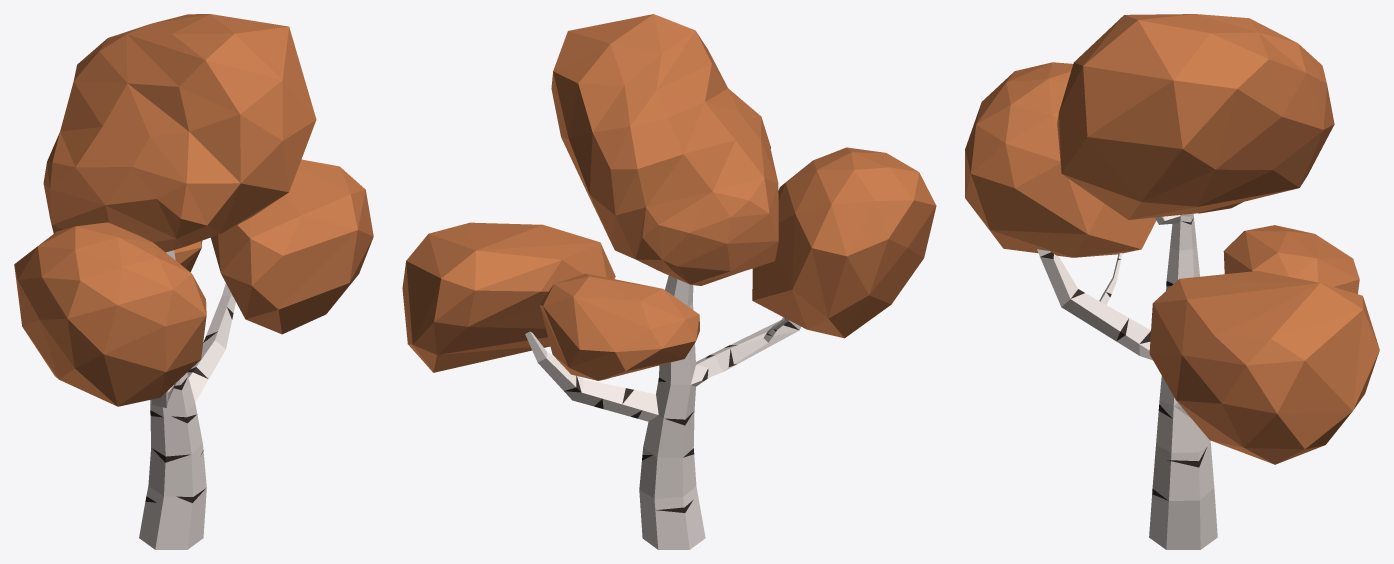
File: SM_Birch_02.fbx
3 views of the same model, side by side, from view 1: azimuth 30°, elevation 25°; view 2: azimuth 150°, elevation 25°; view 3: azimuth 270°, elevation 25° (orthographic). The views are drawn at different scales.
Parts seen in each view (by area): view 1: SM_Birch_02; view 2: SM_Birch_02; view 3: SM_Birch_02.
Boxes of the visible parts, x1,y1,x2,y2 form: SM_Birch_02: [14, 14, 373, 549]; SM_Birch_02: [402, 14, 936, 549]; SM_Birch_02: [965, 14, 1379, 549].
Size of the model in its own units: 1494 by 1731 by 1207.
